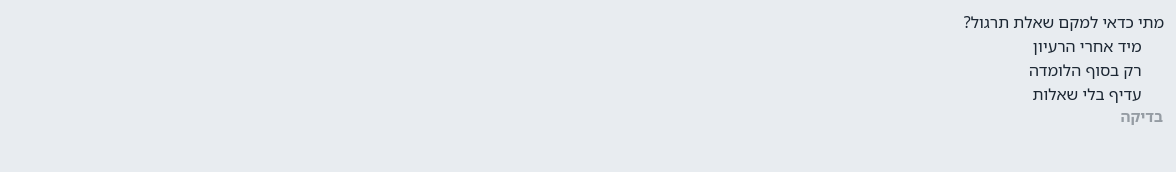
Test: QuizRenderer — מענה › הצגת פתרון חושפת את התשובה הנכונה
This screenshot has width=1176, height=172.
Click the radio button labelled "עדיף בלי שאלות". click: (1087, 94)
box: [1032,83,1142,105]
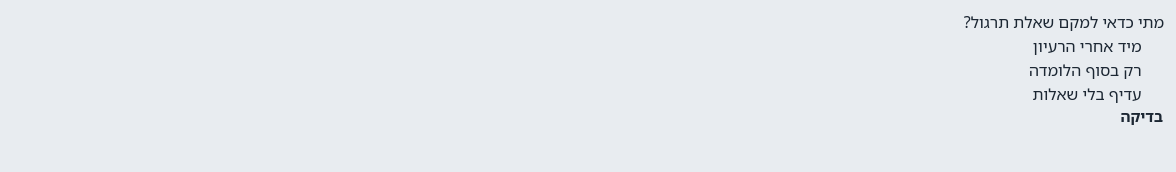
Click the button "בדיקה". click: (1142, 116)
box: [1119,106,1164,126]
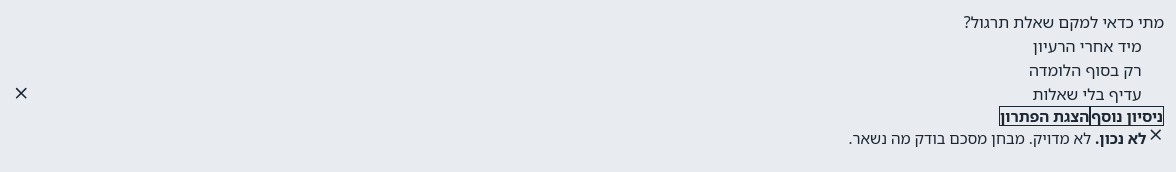
Click the button "הצגת הפתרון". click: (1045, 116)
box: [999,106,1090,126]
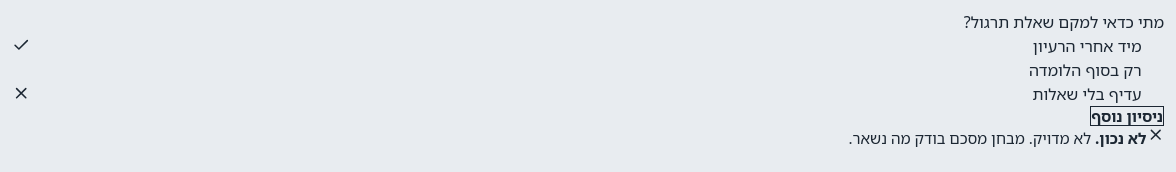
Expected: the icon named "תשובה נכונה" is shown, [12,36,30,55]
